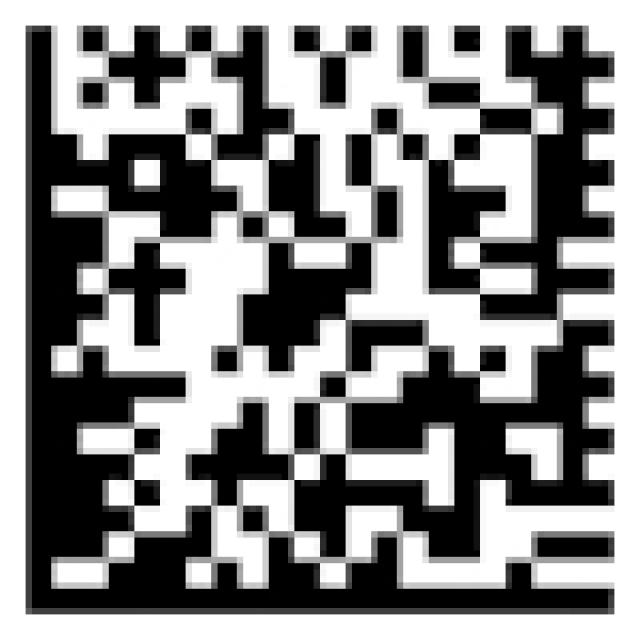datamatrix: (6, 6, 634, 640)
